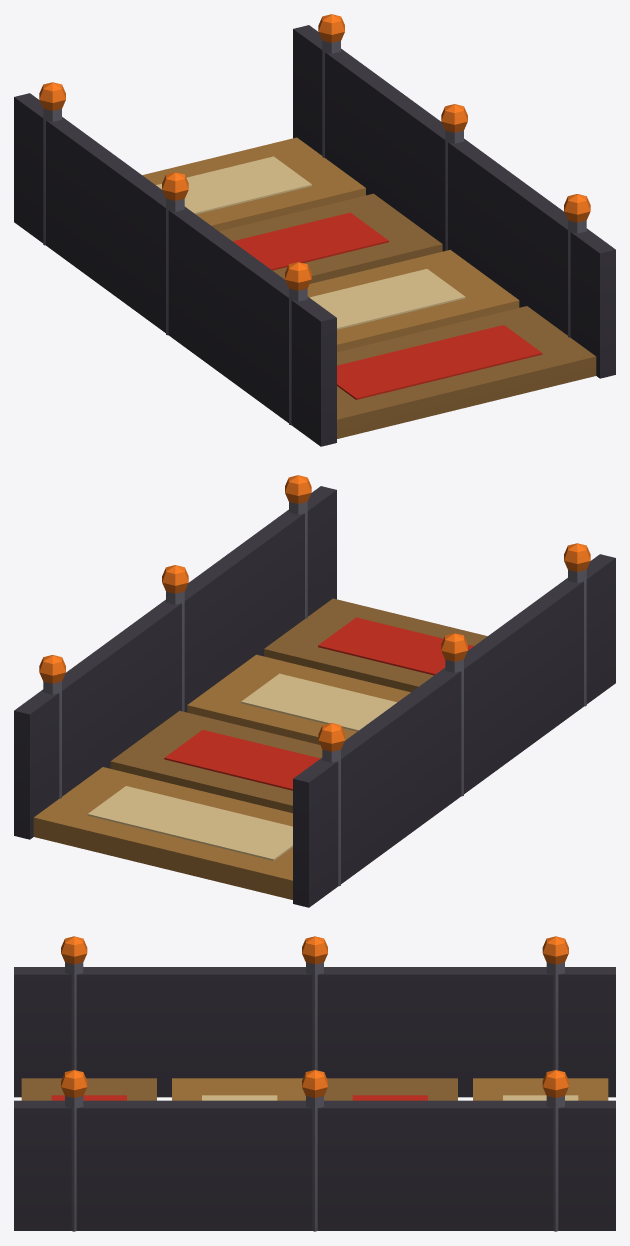
File: glass_bridge.glb
3 renders of one model, top to bottom at view 1: azimuth 30°, elevation 25°; view 2: azimuth 150°, elevation 25°; view 3: azimuth 270°, elevation 25°, orthographic.
Parts seen in each view (by area): view 1: glass_bridge; view 2: glass_bridge; view 3: glass_bridge.
Boxes of the visible parts, x1,y1,x2,y2 form: glass_bridge: [14, 14, 615, 446]; glass_bridge: [14, 475, 615, 907]; glass_bridge: [14, 936, 615, 1231].
Bounding box in the file's own units: 2.3 × 1.15 × 4.
